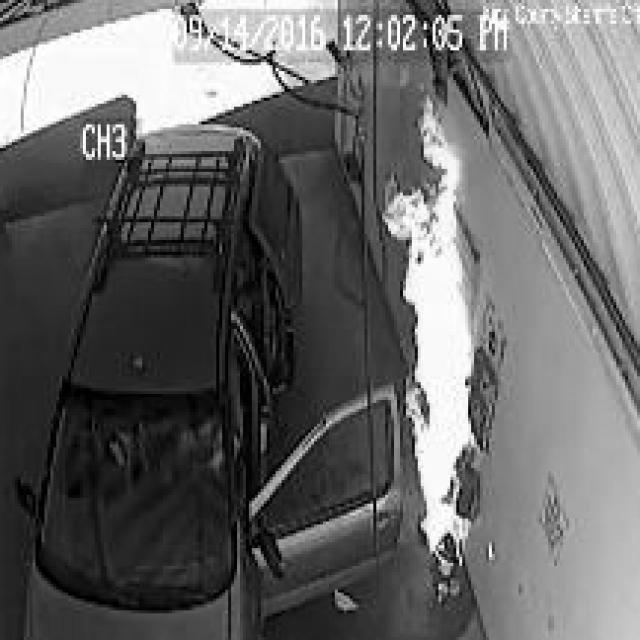smoke: (373, 83, 480, 572)
